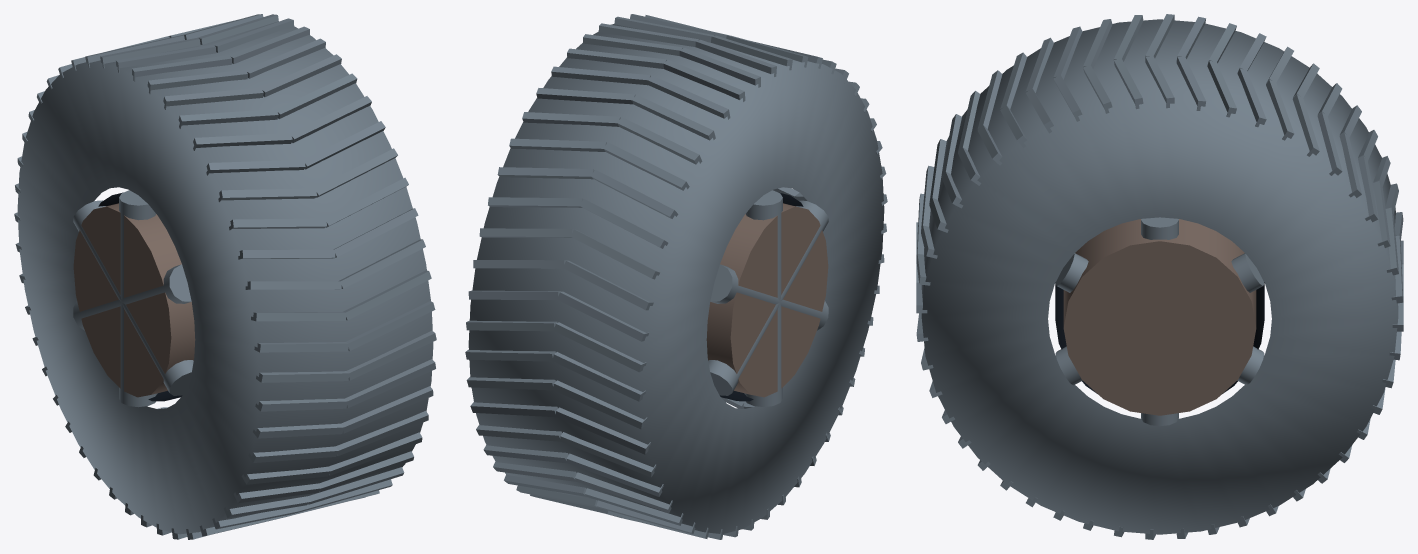
File: perseverance_mobility.rocker_left.bogie.axle_middle.wheel_middle.glb
3 renders of one model, left to right at view 1: azimuth 30°, elevation 25°; view 2: azimuth 150°, elevation 25°; view 3: azimuth 270°, elevation 25°, orthographic.
Parts seen in each view (by area): view 1: perseverance_mobility.rocker_left.bogie.axle_middle.wheel_mi (×2); view 2: perseverance_mobility.rocker_left.bogie.axle_middle.wheel_mi (×2); view 3: perseverance_mobility.rocker_left.bogie.axle_middle.wheel_mi (×3).
Boxes of the visible parts, bbox=[...] form: perseverance_mobility.rocker_left.bogie.axle_middle.wheel_mi (×2): bbox=[14, 14, 436, 539]; perseverance_mobility.rocker_left.bogie.axle_middle.wheel_mi (×2): bbox=[465, 14, 887, 539]; perseverance_mobility.rocker_left.bogie.axle_middle.wheel_mi (×3): bbox=[916, 14, 1403, 539].
Size of the model in its own units: 0.264 by 0.536 by 0.536.
